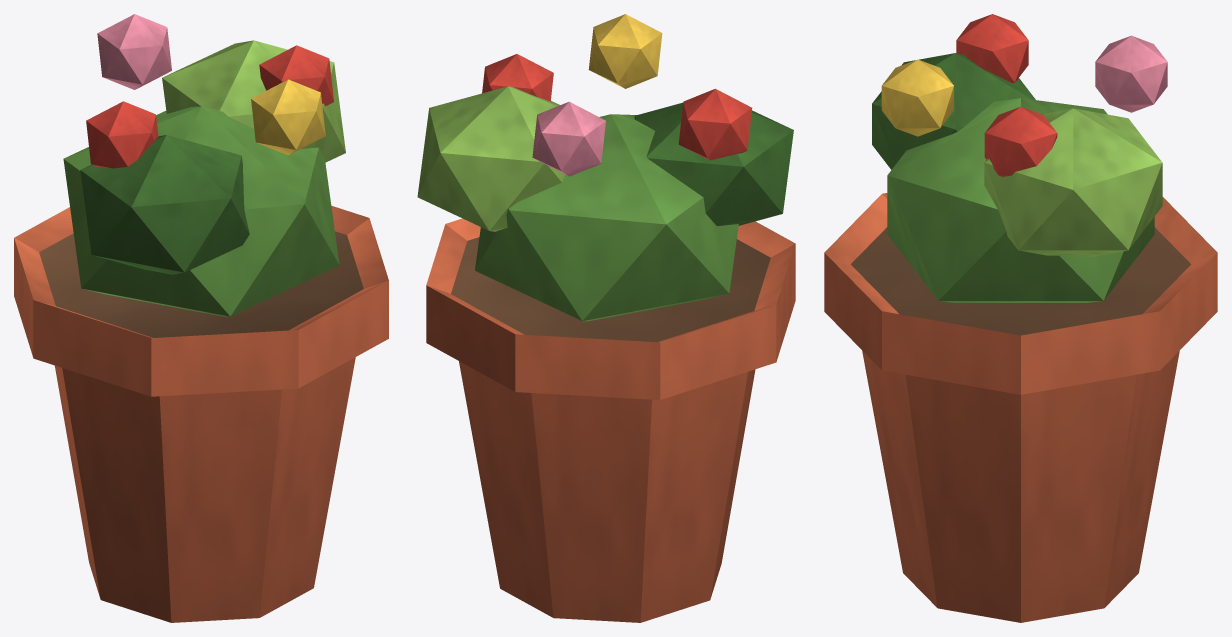
The model's file is prop_flowerpot_01.glb.
3 views of the same model, side by side, from view 1: azimuth 30°, elevation 25°; view 2: azimuth 150°, elevation 25°; view 3: azimuth 270°, elevation 25° (orthographic). The views are drawn at different scales.
Parts seen in each view (by area): view 1: prop_flowerpot_01; view 2: prop_flowerpot_01; view 3: prop_flowerpot_01.
Boxes of the visible parts, x1,y1,x2,y2 form: prop_flowerpot_01: [14, 14, 388, 622]; prop_flowerpot_01: [417, 14, 795, 622]; prop_flowerpot_01: [824, 14, 1217, 622].
Bounding box in the file's own units: 0.6 × 0.895 × 0.6.
1 material, 1 textured.
